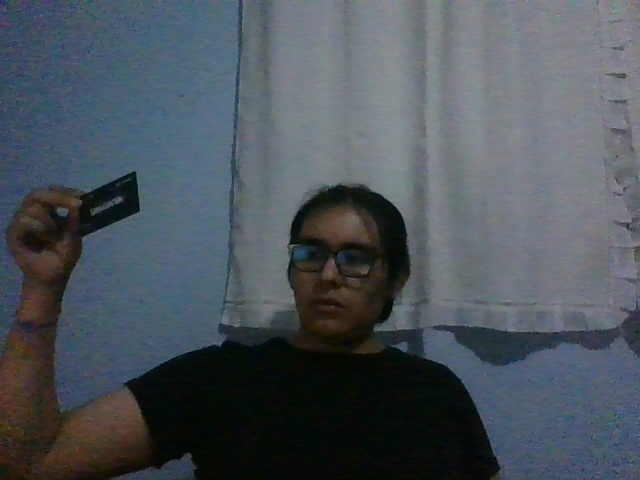tarjeta: (77, 170, 140, 237)
